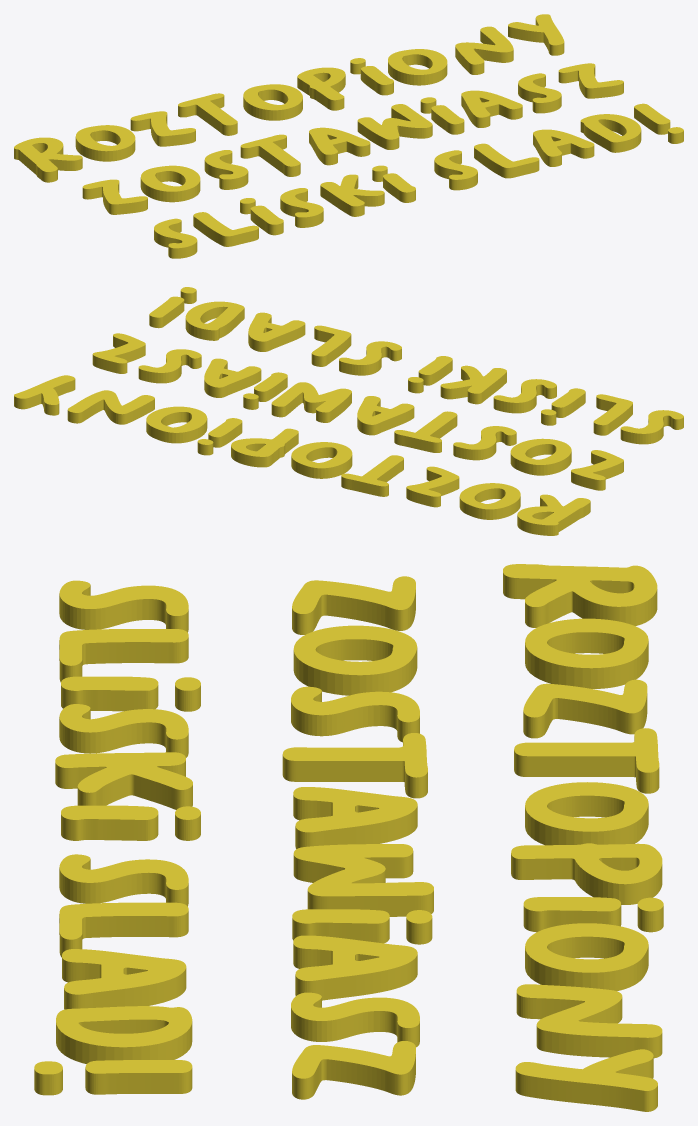
The model's file is slad.fbx.
The picture shows the model from 3 angles, top to bottom: view 1: azimuth 30°, elevation 25°; view 2: azimuth 150°, elevation 25°; view 3: azimuth 270°, elevation 25°; orthographic projection. The views are drawn at different scales.
Parts seen in each view (by area): view 1: slad; view 2: slad; view 3: slad.
Boxes of the visible parts, x1=… form: slad: x1=14, y1=14, x2=683, y2=258; slad: x1=14, y1=287, x2=683, y2=535; slad: x1=34, y1=564, x2=663, y2=1111.
Bounding box in the file's own units: 539 × 10 × 272.
